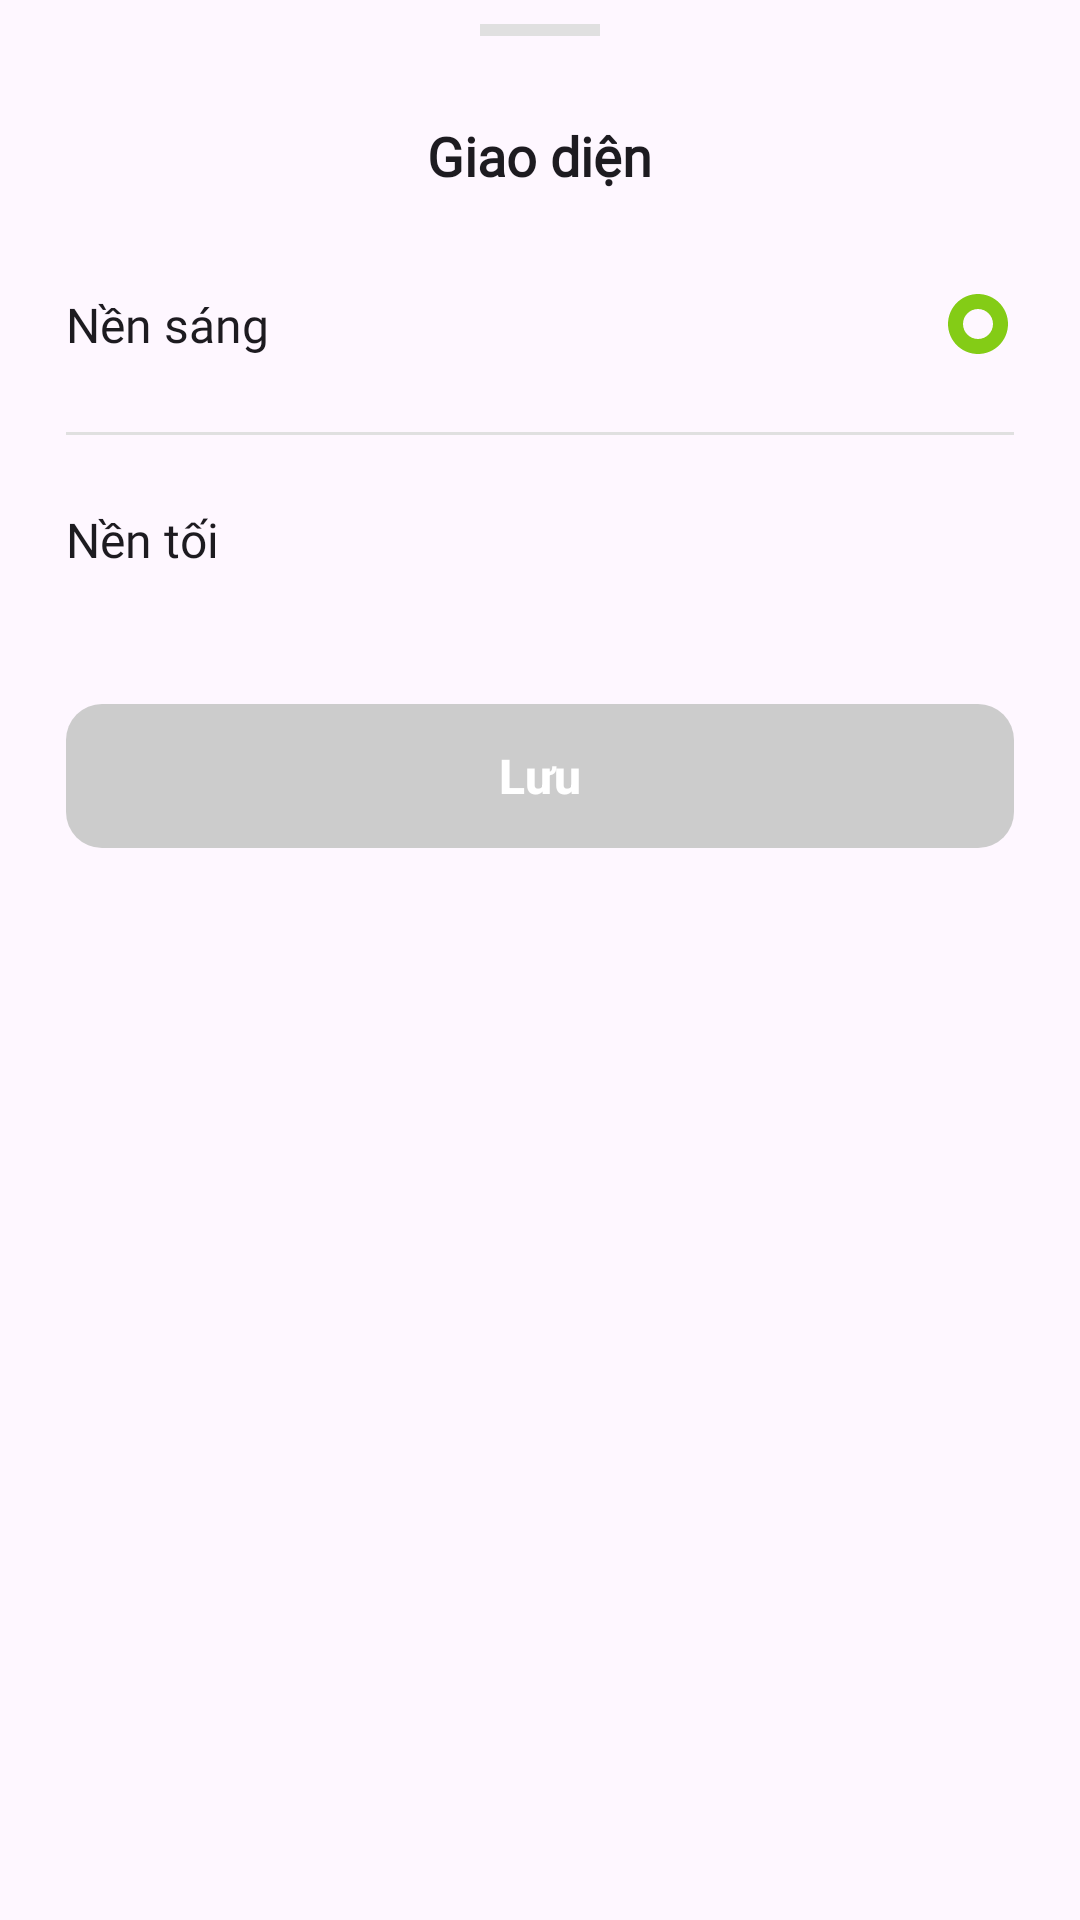

Named icons in this screenshot (1080 x 1920) and their bounding boxes, (x1, y1, x2, y2):
radio checked: (948, 294, 1008, 354)
